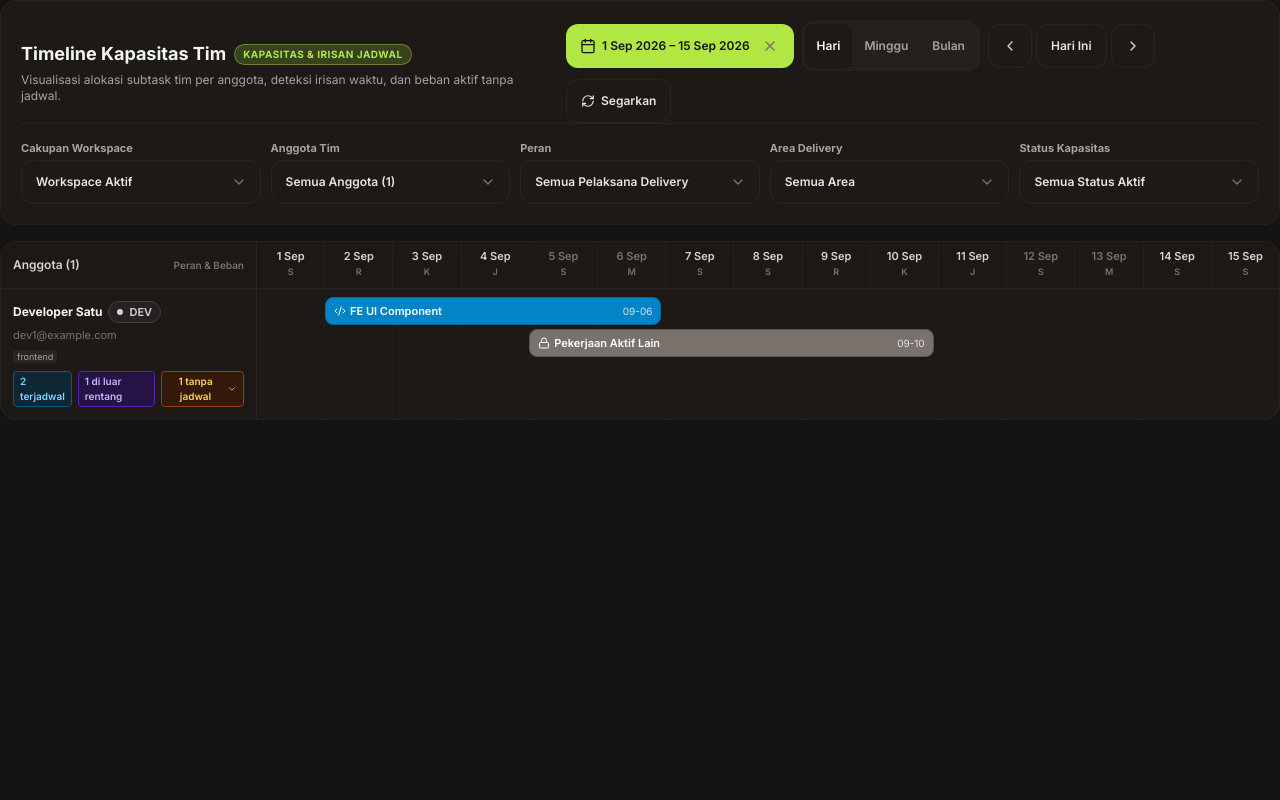
Test: TeamCapacityTimeline Component › clicking a subtask bar opens detail modal
This screenshot has width=1280, height=800.
Click the text "FE UI Component". click: (396, 311)
box: [350, 303, 442, 319]
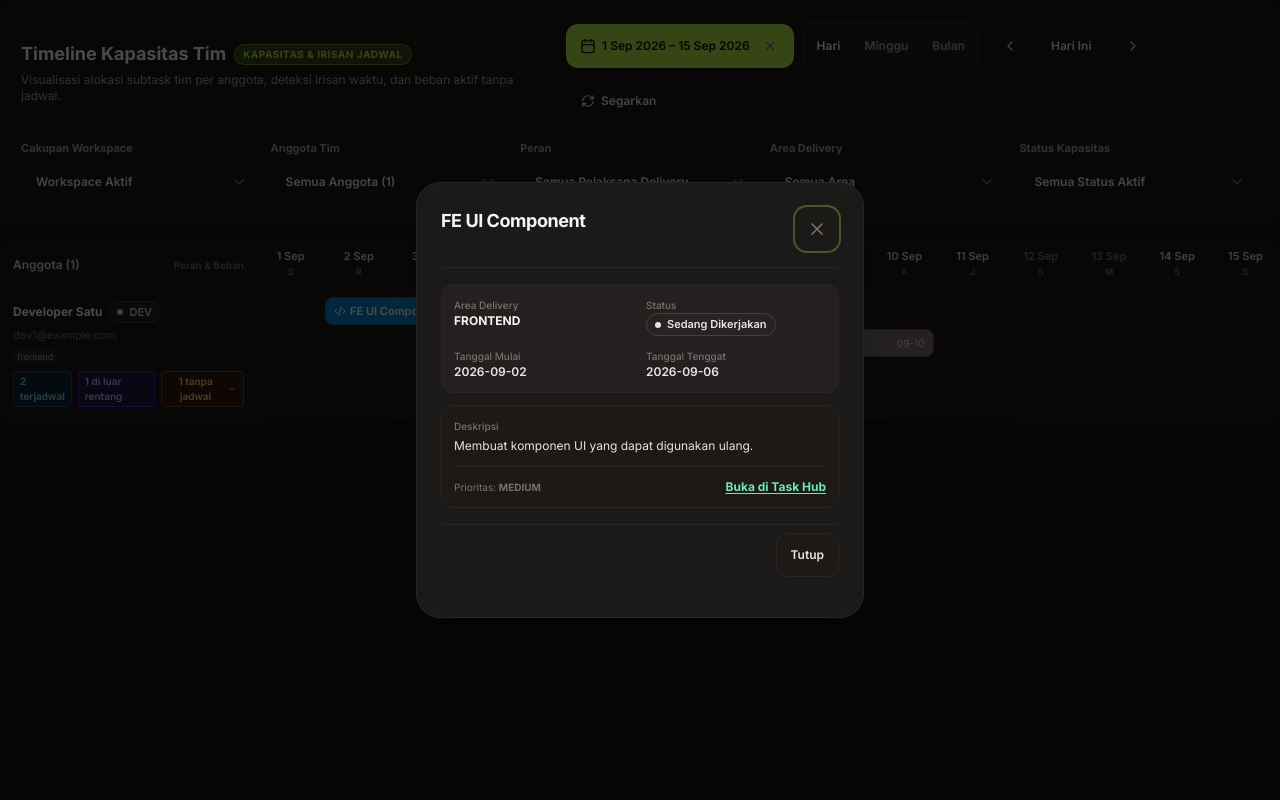
Expected: the dialog is shown, [416, 182, 864, 618]
Expected: the text "Area Delivery" is shown, [454, 299, 518, 311]
Expected: the heading "FE UI Component" is shown, [441, 207, 585, 235]
